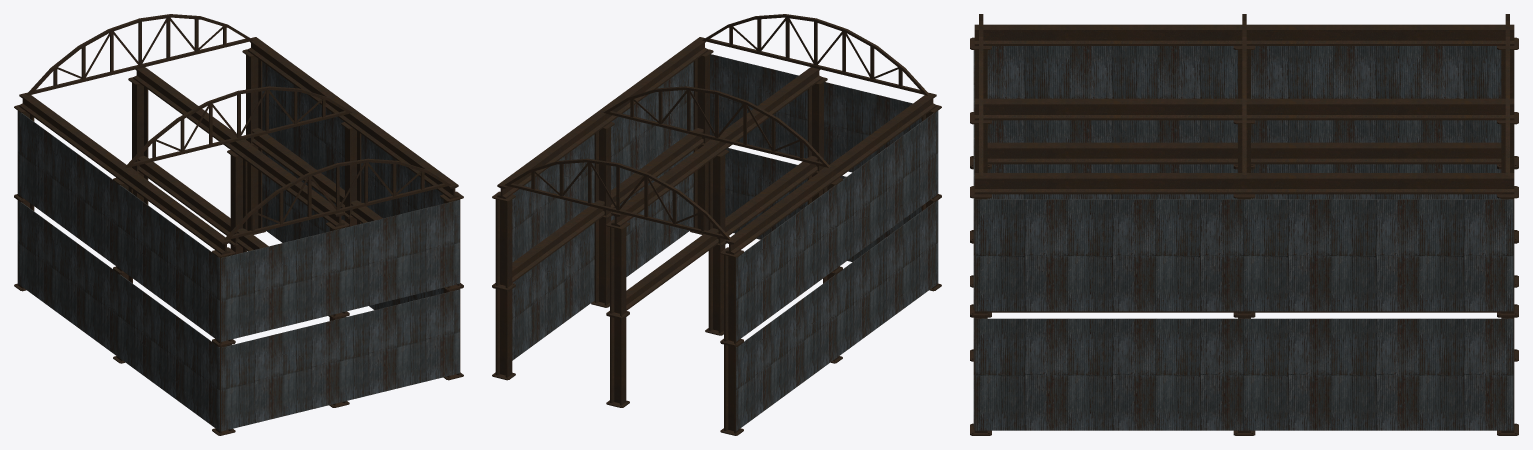
File: warehouse_hl_1_end_closed.obj
3 views of the same model, side by side, from view 1: azimuth 30°, elevation 25°; view 2: azimuth 150°, elevation 25°; view 3: azimuth 270°, elevation 25° (orthographic). The views are drawn at different scales.
Parts seen in each view (by area): view 1: warehouse_hl_1_end_closed; view 2: warehouse_hl_1_end_closed; view 3: warehouse_hl_1_end_closed.
Boxes of the visible parts, box(x1,y1,x2,y2) form: warehouse_hl_1_end_closed: box(14, 14, 463, 435); warehouse_hl_1_end_closed: box(492, 14, 941, 435); warehouse_hl_1_end_closed: box(970, 14, 1518, 435).
Size of the model in its own units: 8.6 by 8.02 by 12.5.
